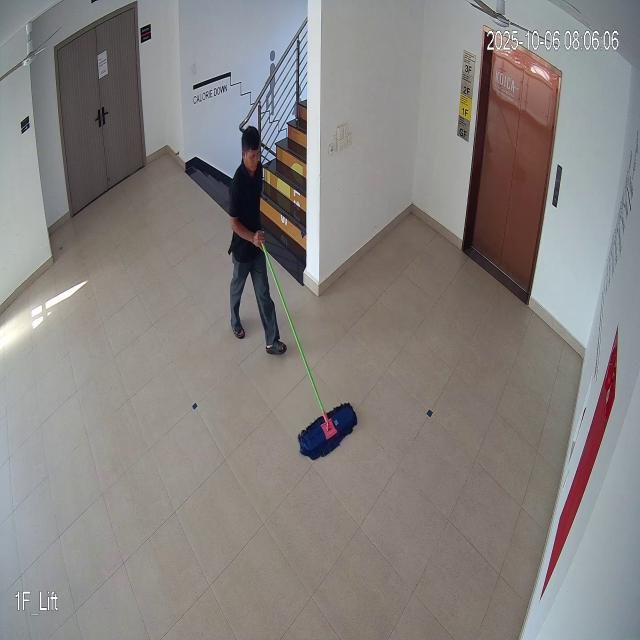face: (238, 117, 266, 183)
